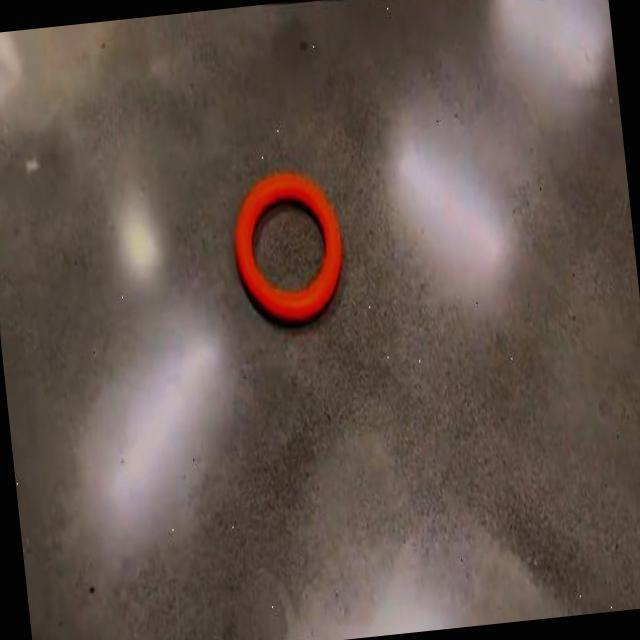note: (234, 176, 341, 321)
